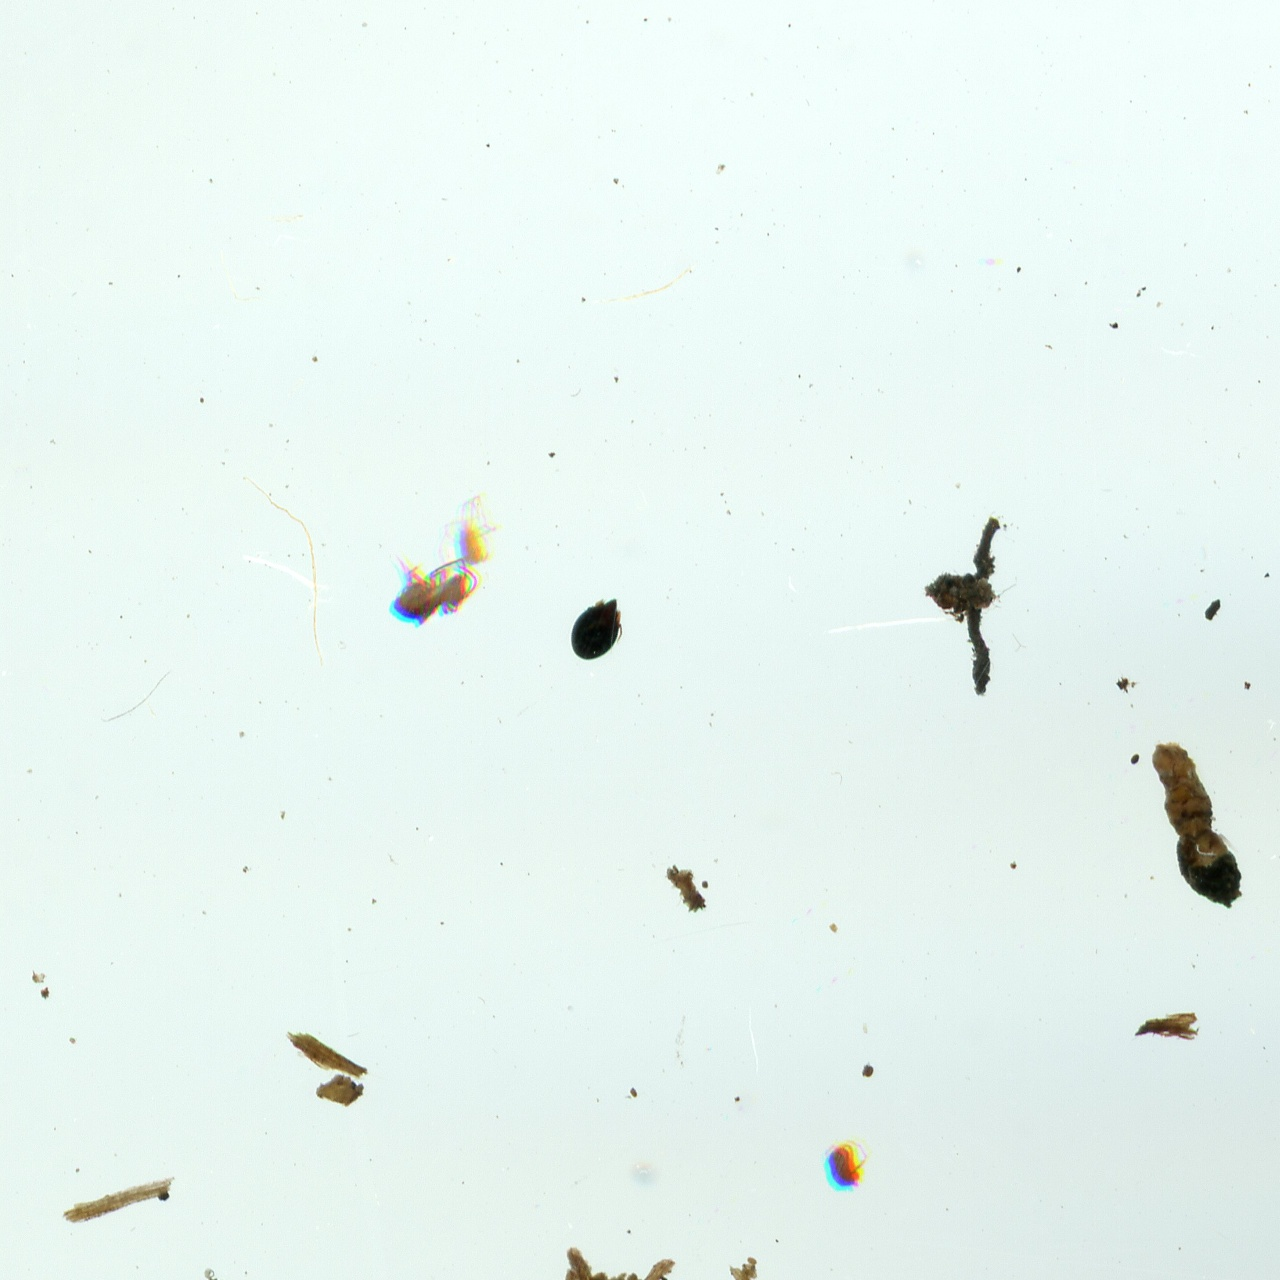arthropod: (386, 549, 485, 631), (434, 491, 504, 579), (569, 596, 625, 662), (820, 1138, 876, 1196)
